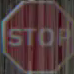Stop: (0, 4, 68, 65)
